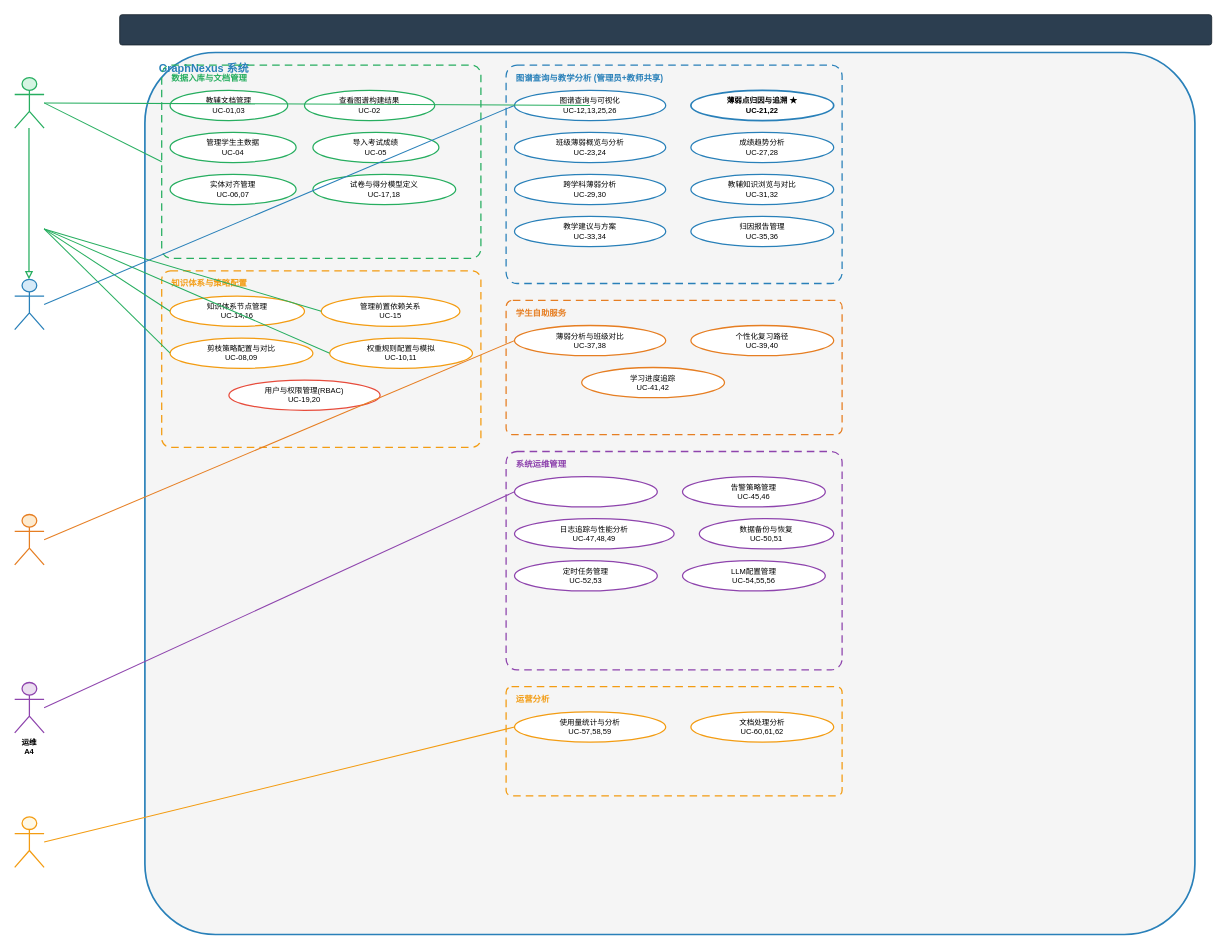
Image size: 1227x950. Some labels were removed from this diagram. Here are the shapes that lost their labels. From the top down, the centre of each, then its label:
At point 665,29: "GraphNexus 全局用例图 (v3.0 · 62原子用例合并为~30个 · 6个参与者 · 符合用例命名规范)".
At point 29,102: "管理员 A1".
At point 29,304: "教师 A2".
At point 585,491: "系统健康监控 UC-43,44".
At point 29,539: "学生 A3".
At point 29,842: "运营 A5".
